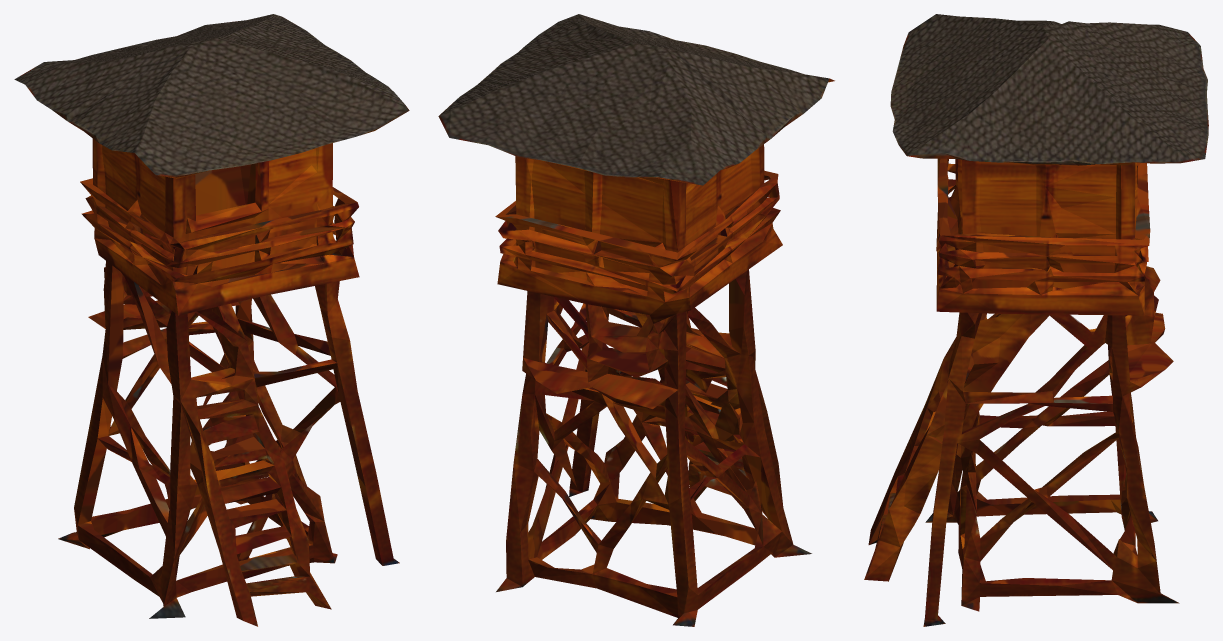
Rendered from watchtower.glb.
The picture shows the model from 3 angles, left to right: view 1: azimuth 30°, elevation 25°; view 2: azimuth 150°, elevation 25°; view 3: azimuth 270°, elevation 25°; orthographic projection. The views are drawn at different scales.
Parts seen in each view (by area): view 1: temp_mesh.ply; view 2: temp_mesh.ply; view 3: temp_mesh.ply.
Boxes of the visible parts, <box> form: temp_mesh.ply: <box>14,14,409,626</box>; temp_mesh.ply: <box>438,14,834,626</box>; temp_mesh.ply: <box>864,14,1208,626</box>.
Bounding box in the file's own units: 1.11 × 1.98 × 1.16.
Materials: 1 (1 with a texture image).
